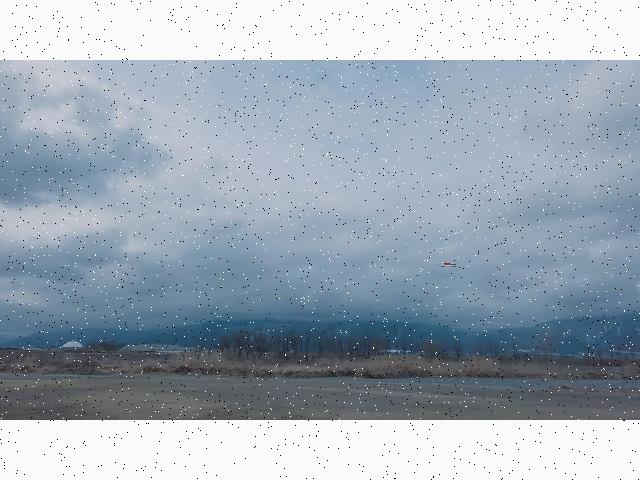Anti-Drone: (435, 257, 461, 271)
